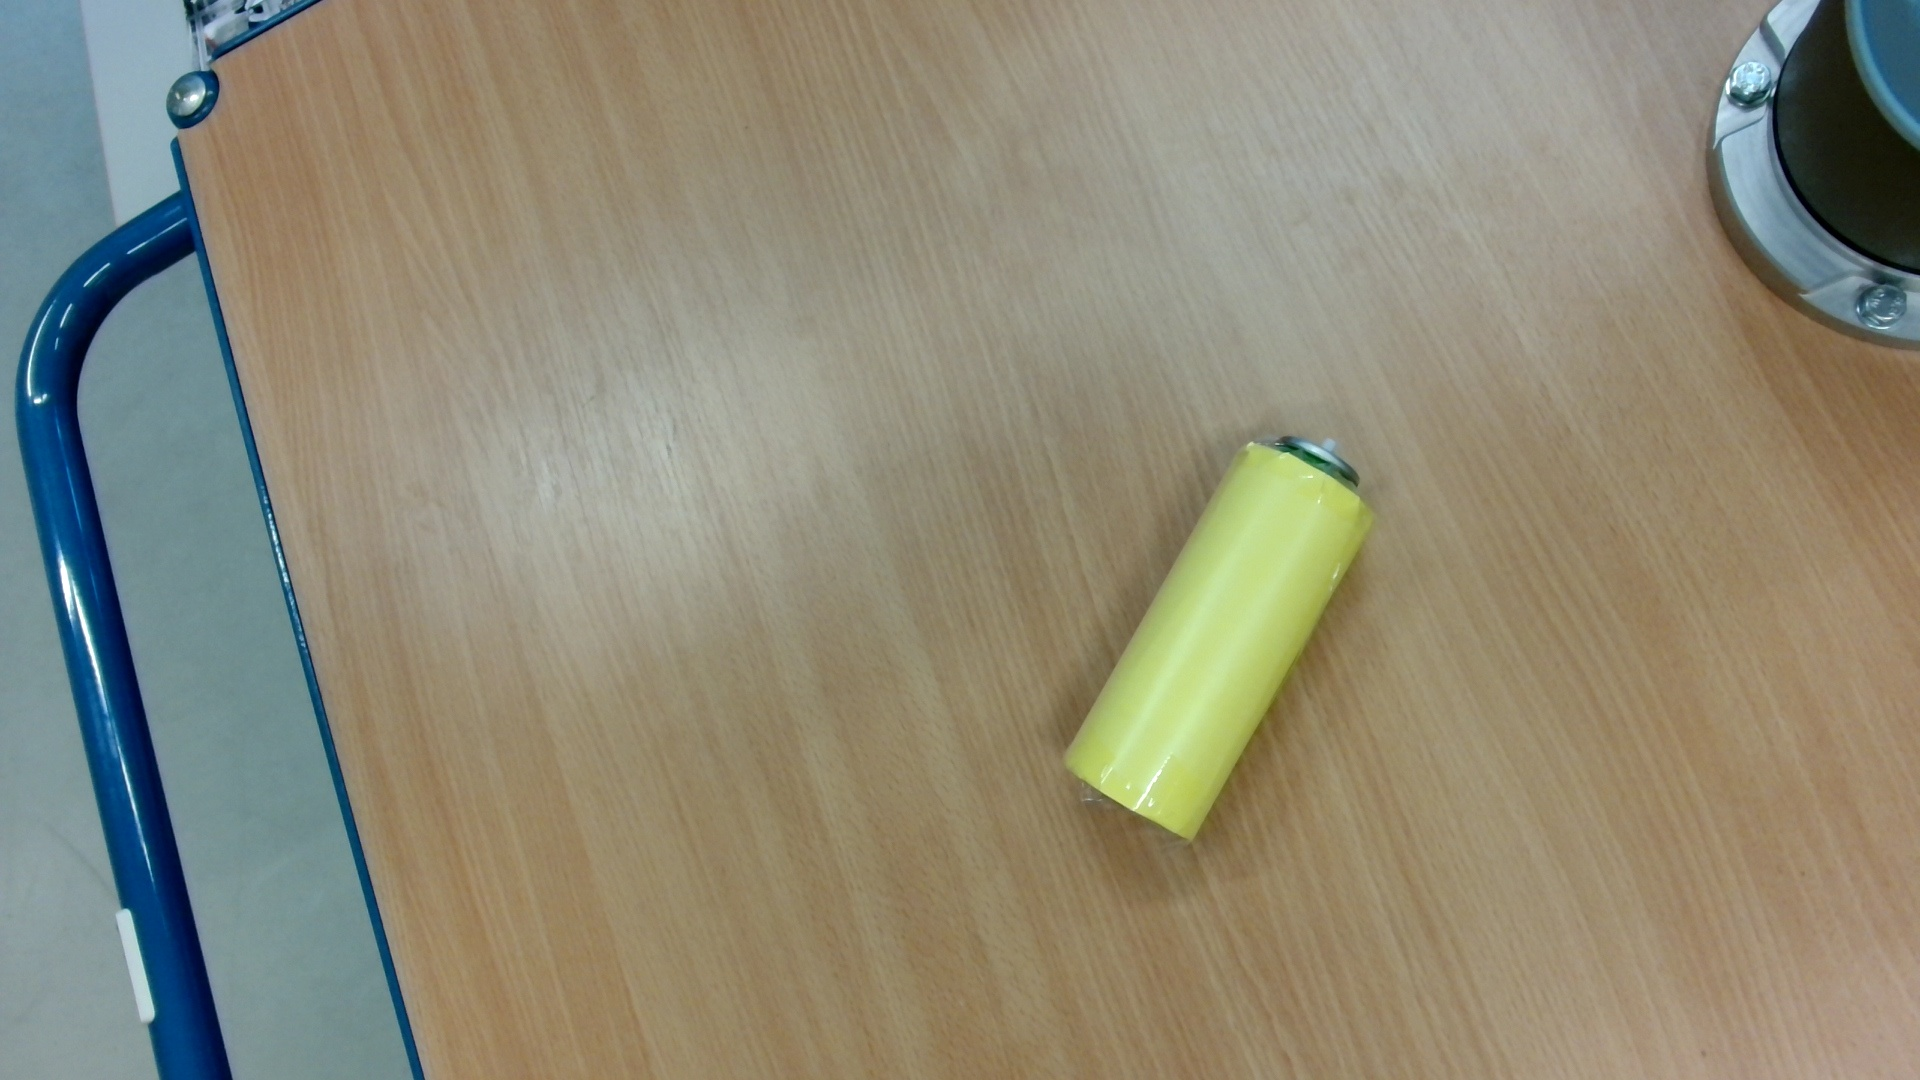Cylinder: (1035, 425, 1402, 852)
